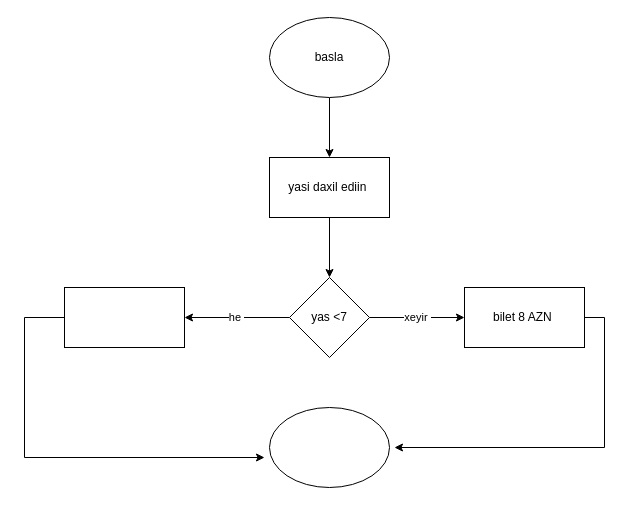
This 630x505 diagram has some shape labels left out. The box of each missing label's shape, as (x1, y1, x2, y2) in pixels:
bilet pulsuzdu: (64, 286, 184, 348)
son: (268, 406, 390, 488)
